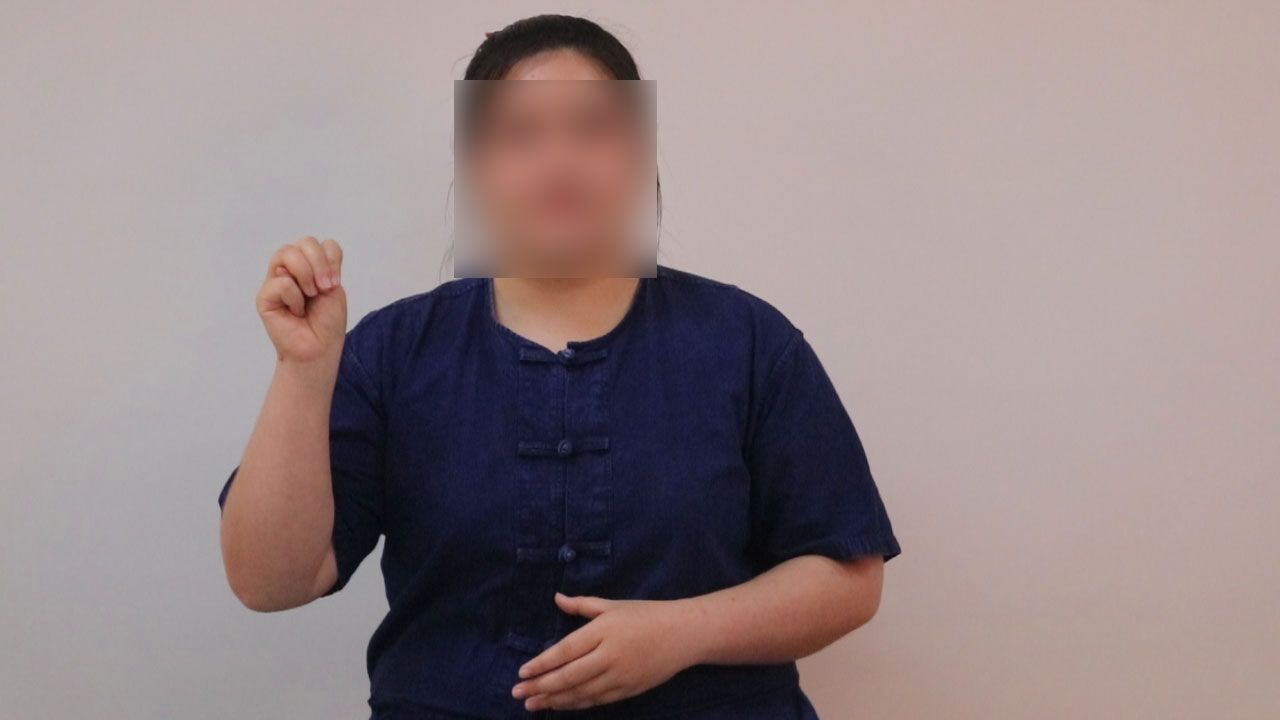mor: (250, 218, 368, 379)
